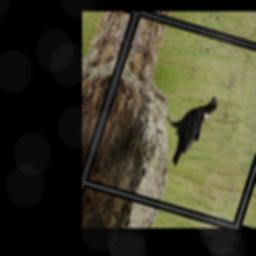Crow: (152, 84, 220, 174)
